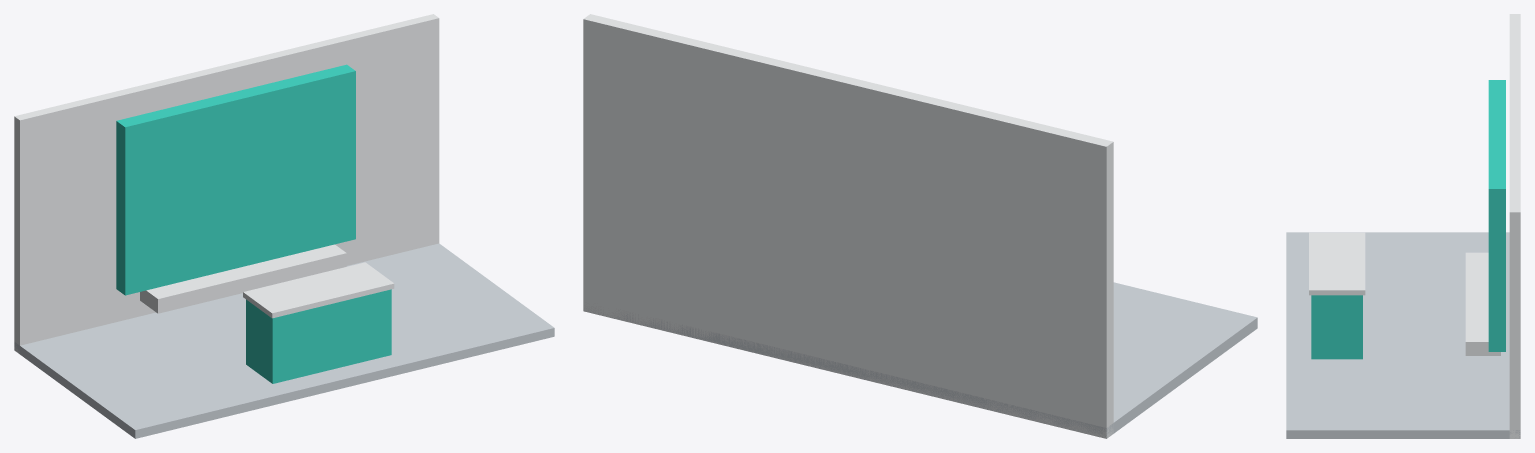
The picture shows the model from 3 angles, left to right: view 1: azimuth 30°, elevation 25°; view 2: azimuth 150°, elevation 25°; view 3: azimuth 270°, elevation 25°; orthographic projection. The views are drawn at different scales.
Parts seen in each view (by area): view 1: Exhibition Booth Concept; view 2: Exhibition Booth Concept; view 3: Exhibition Booth Concept.
Boxes of the visible parts, bbox=[...] form: Exhibition Booth Concept: bbox=[14, 14, 554, 438]; Exhibition Booth Concept: bbox=[583, 14, 1257, 438]; Exhibition Booth Concept: bbox=[1286, 14, 1520, 438].
Bounding box in the file's own units: 6 × 3.2 × 3.
